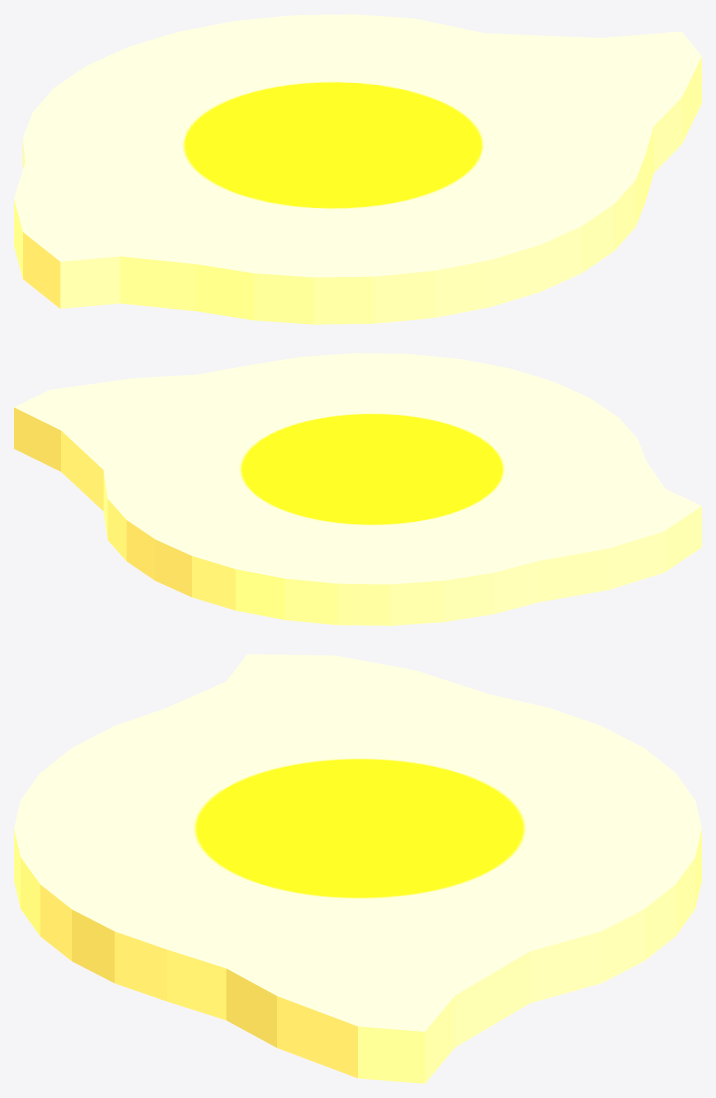
File: fried_egg.glb
The picture shows the model from 3 angles, top to bottom: view 1: azimuth 30°, elevation 25°; view 2: azimuth 150°, elevation 25°; view 3: azimuth 270°, elevation 25°; orthographic projection. The views are drawn at different scales.
Parts seen in each view (by area): view 1: Cylinder; view 2: Cylinder; view 3: Cylinder.
Part boxes in pixels (box(x1,y1,x2,y2)): Cylinder: box(14, 14, 701, 324); Cylinder: box(14, 353, 701, 625); Cylinder: box(14, 654, 701, 1083).
Size of the model in its own units: 0.7793 by 0.05 by 0.6.
1 material, 1 textured.
